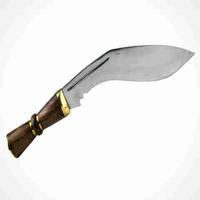knife: (7, 26, 198, 164)
